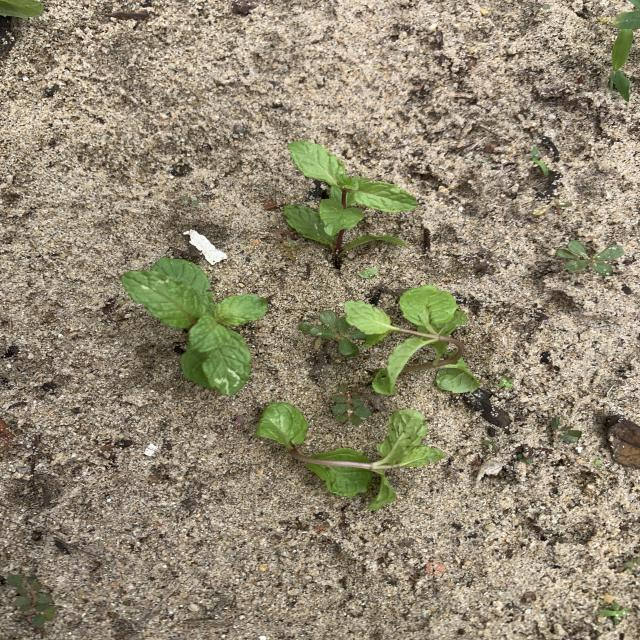crop: (256, 402, 443, 510), (122, 258, 267, 394), (284, 141, 416, 252), (344, 285, 479, 392), (1, 1, 41, 17)
weed: (299, 310, 364, 354), (6, 576, 55, 627), (557, 240, 623, 275), (611, 28, 632, 100), (332, 386, 371, 423), (551, 417, 582, 443), (615, 0, 639, 29), (599, 602, 631, 623), (531, 146, 548, 175), (358, 267, 378, 278), (498, 377, 514, 388), (624, 558, 639, 569), (483, 439, 496, 450), (184, 196, 198, 205)
